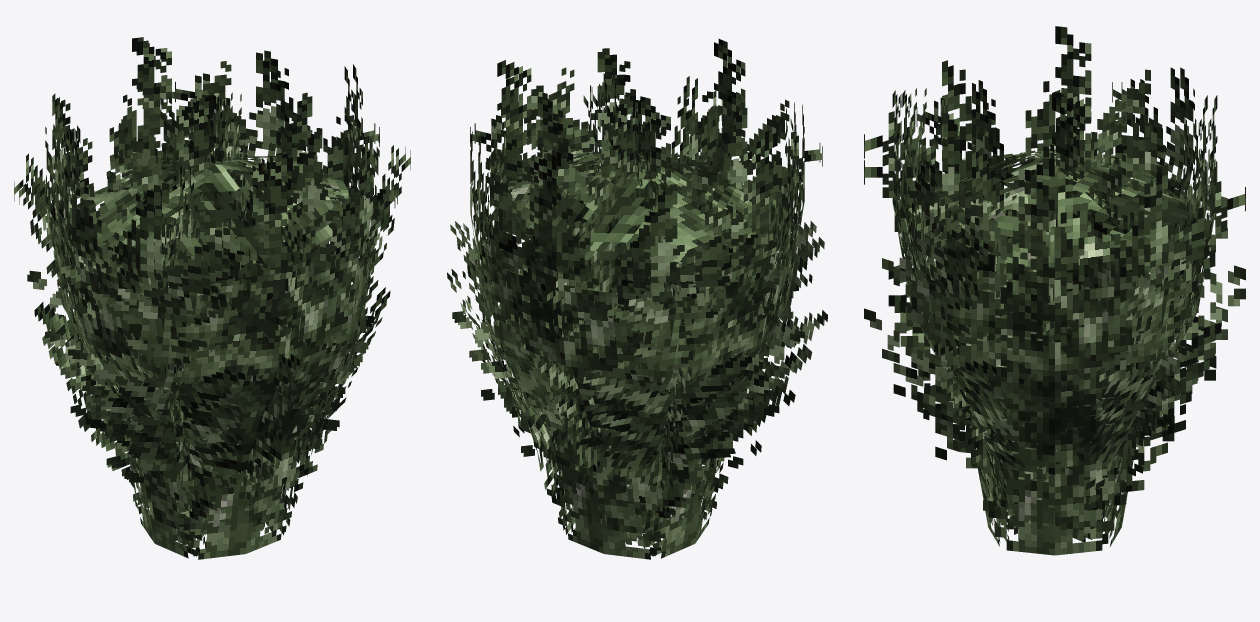
File: bush08_fall.glb
The picture shows the model from 3 angles, left to right: view 1: azimuth 30°, elevation 25°; view 2: azimuth 150°, elevation 25°; view 3: azimuth 270°, elevation 25°; orthographic projection.
Visible parts, largest first — view 1: bush08; view 2: bush08; view 3: bush08.
Boxes of the visible parts, x1,y1,x2,y2 form: bush08: (14,37,410,559); bush08: (447,39,827,559); bush08: (864,26,1245,555).
Size of the model in its own units: 1.2 by 1.5 by 1.2.
Materials: 1 (1 with a texture image).
